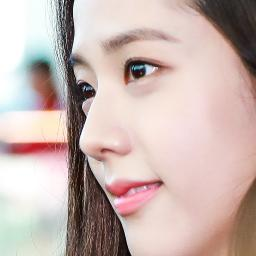face: (80, 0, 244, 256)
